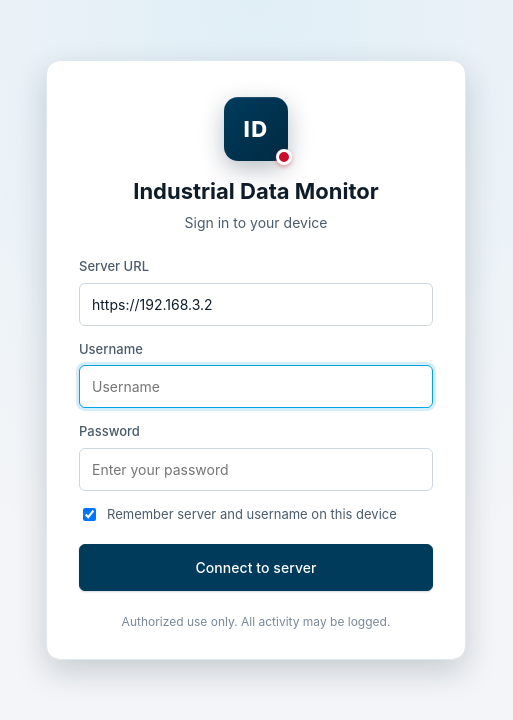
Scenario: AuthenticationForm › blocks submit and shows validation errors when fields are empty
// clear the prefilled URL so all three fields are blank
Step 1. Clear the field labelled "Server URL" → (256, 304), box [79,282,433,326]
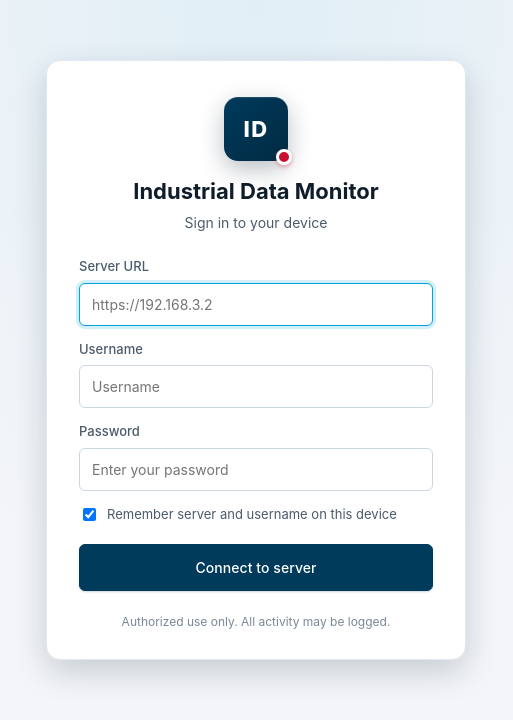
Step 2. Click the button "Connect to server" → (256, 568), box [79,544,433,591]
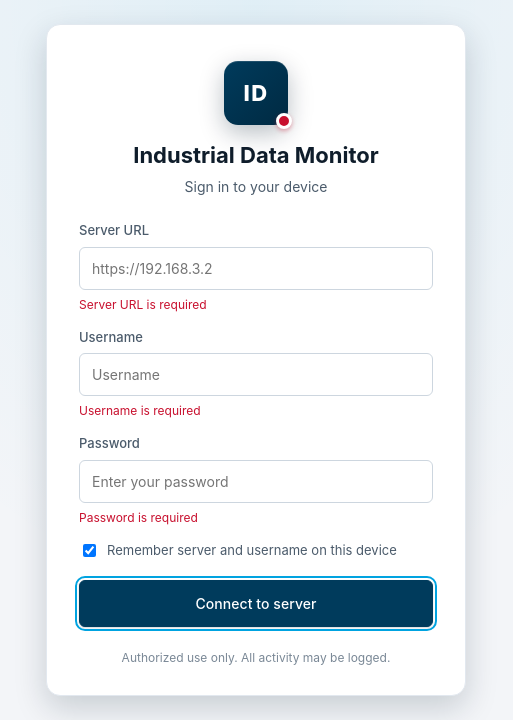
expect the text "Server URL is required" is shown: met, box [79,296,207,312]
expect the text "Username is required" is shown: met, box [79,403,201,418]
expect the text "Password is required" is shown: met, box [79,510,198,524]
